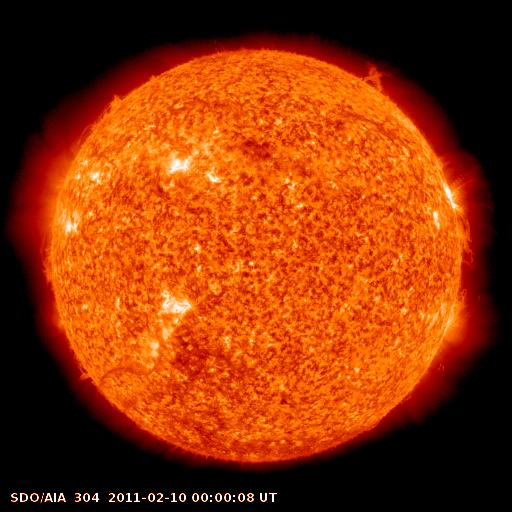prominence: (443, 207, 493, 269), (355, 49, 398, 103), (62, 351, 113, 396), (24, 248, 67, 291), (94, 83, 134, 125)
